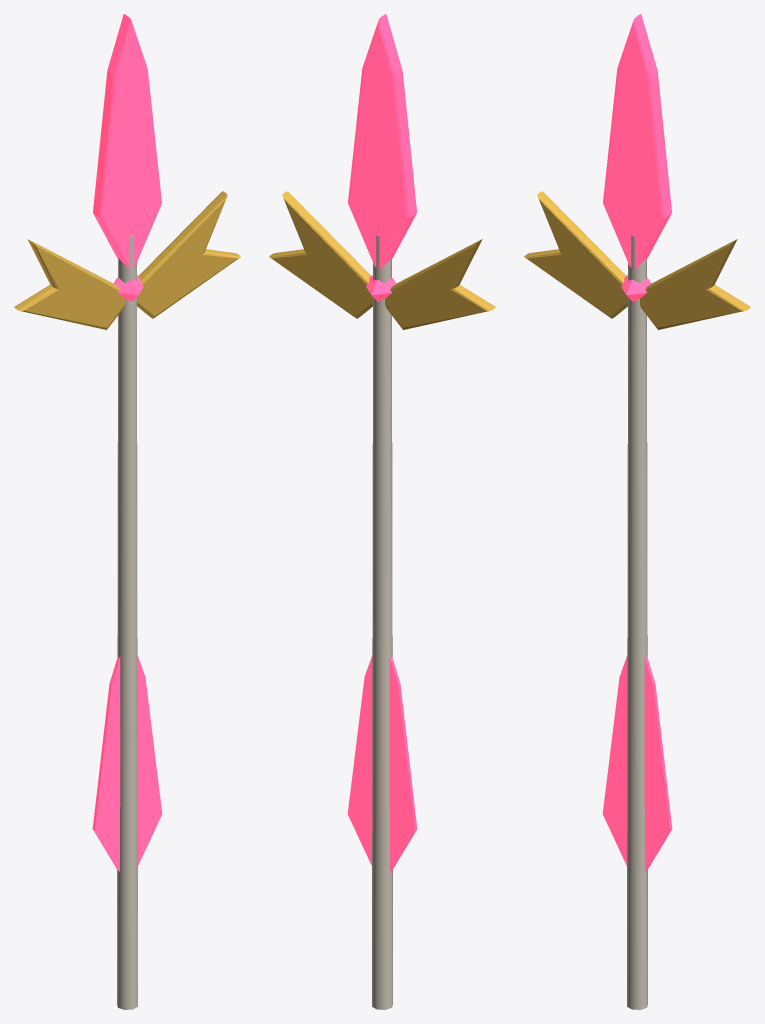
The model's file is spear_f3_ee1fcac0.glb.
3 views of the same model, side by side, from view 1: azimuth 30°, elevation 25°; view 2: azimuth 150°, elevation 25°; view 3: azimuth 330°, elevation 25° (orthographic).
Parts seen in each view (by area): view 1: m0_ow80_, m2_gm130_, m4_ow80_, m1_gm130_; view 2: m0_ow80_, m2_gm130_, m4_ow80_, m1_gm130_; view 3: m0_ow80_, m2_gm130_, m4_ow80_, m1_gm130_.
Boxes of the visible parts, x1=… form: m0_ow80_: x1=117, y1=235, x2=137, y2=1009; m2_gm130_: x1=93, y1=14, x2=161, y2=268; m4_ow80_: x1=14, y1=191, x2=240, y2=329; m1_gm130_: x1=92, y1=655, x2=162, y2=871; m0_ow80_: x1=372, y1=235, x2=392, y2=1009; m2_gm130_: x1=348, y1=14, x2=416, y2=269; m4_ow80_: x1=269, y1=191, x2=495, y2=329; m1_gm130_: x1=347, y1=655, x2=417, y2=871; m0_ow80_: x1=627, y1=235, x2=647, y2=1009; m2_gm130_: x1=603, y1=14, x2=671, y2=269; m4_ow80_: x1=524, y1=191, x2=750, y2=329; m1_gm130_: x1=602, y1=655, x2=672, y2=871.
Bounding box in the file's own units: 0.9339 × 3.97 × 0.16.
